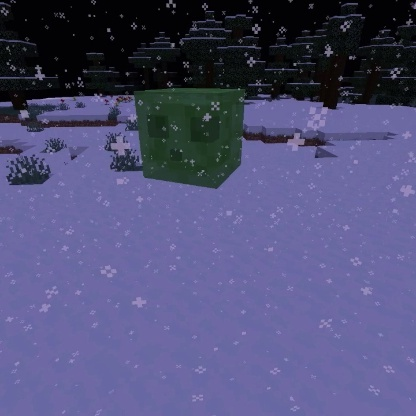slime: (132, 83, 249, 192)
